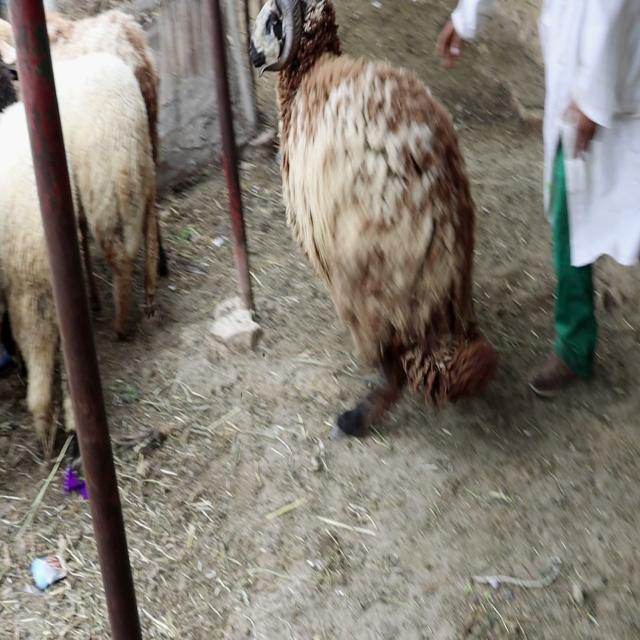Score_4: (249, 0, 497, 437)
